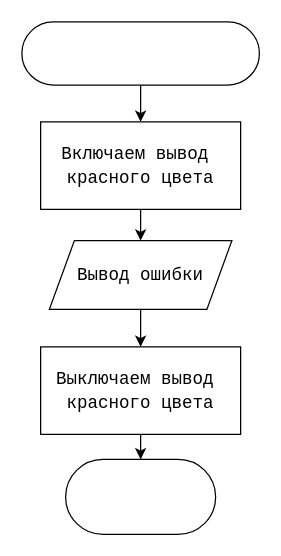
The diagram is 281 pixels wide and 556 high, and some of its shapes have lost their labels. Each missing label, with the box of its shape:
Конец: (64, 458, 216, 534)
Начало print_error: (21, 21, 259, 85)
